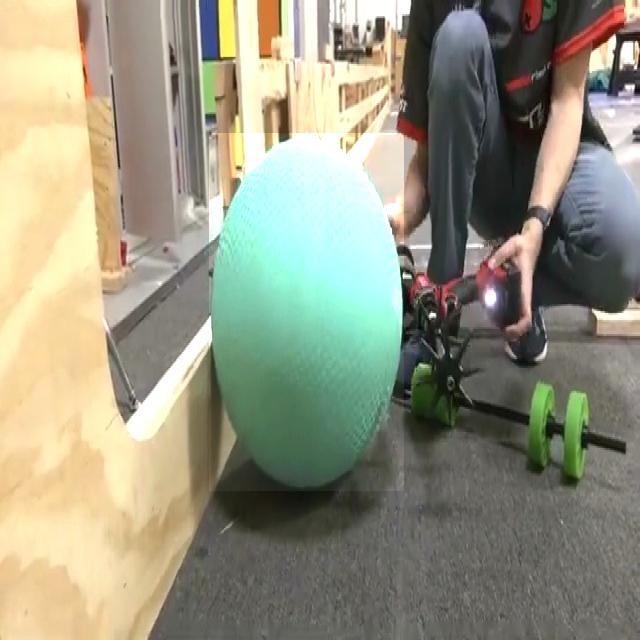Algae: (209, 133, 404, 491)
